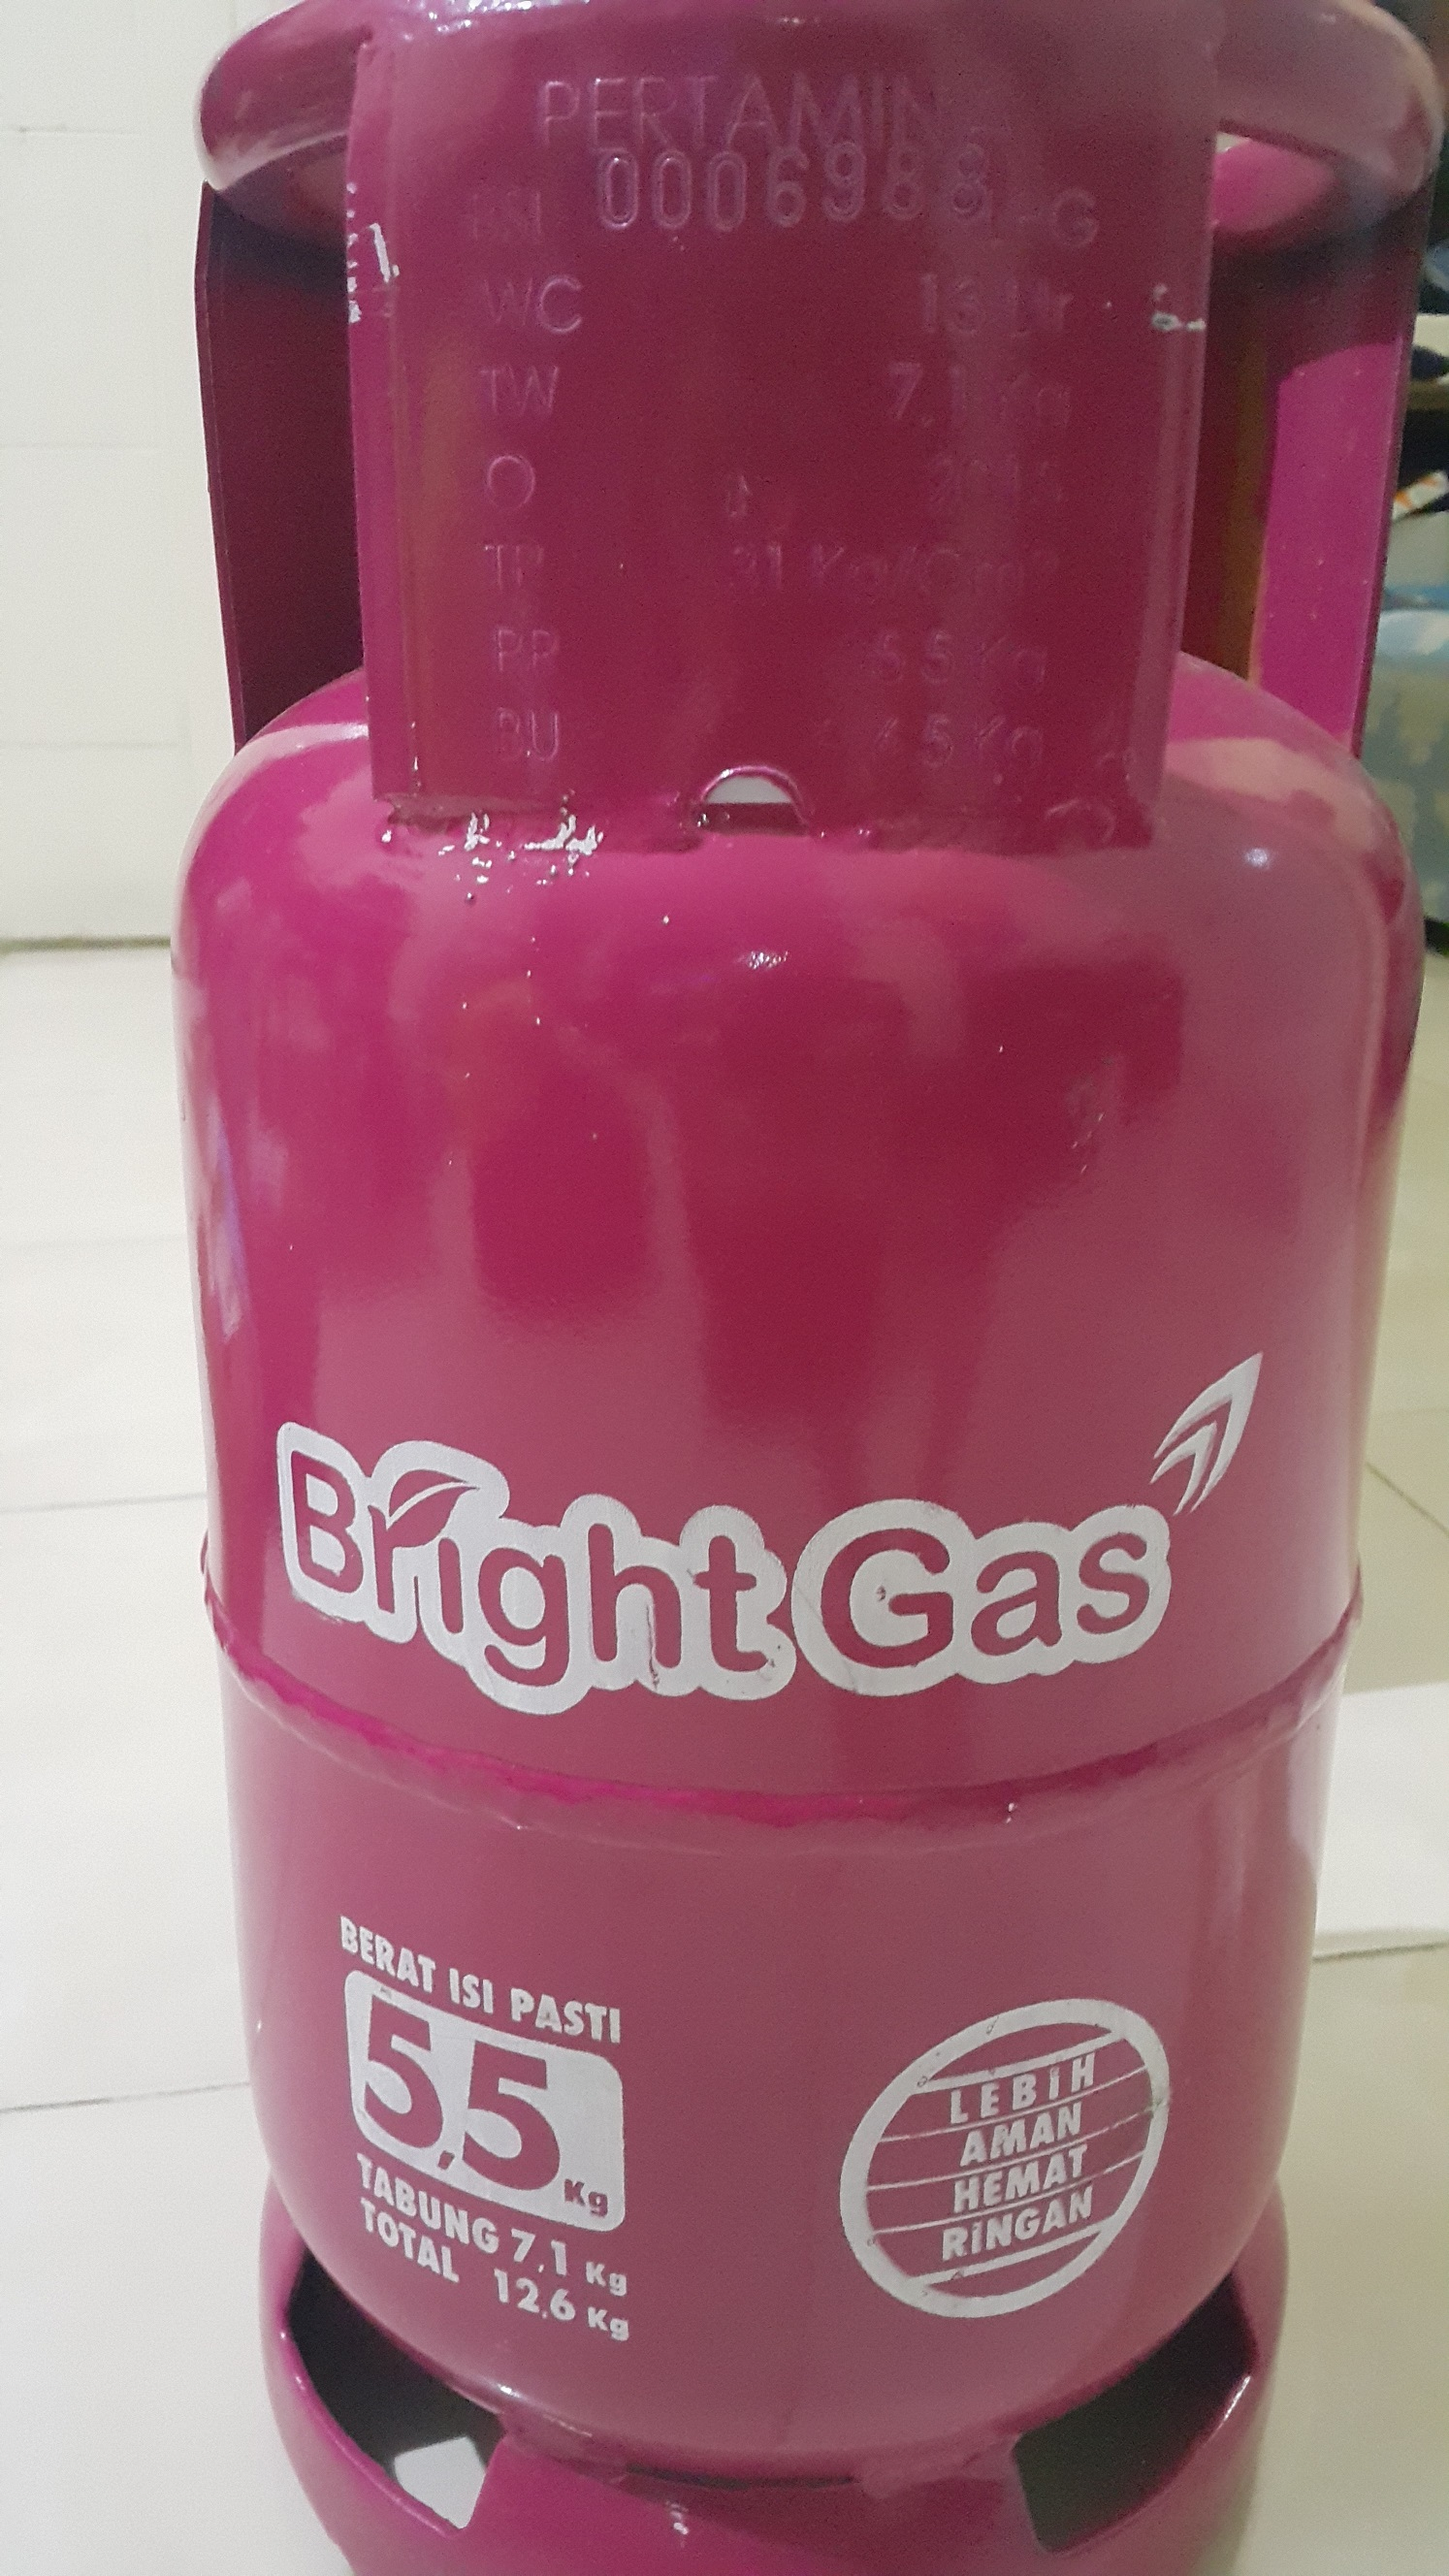bright_gas: (179, 9, 1437, 2574)
